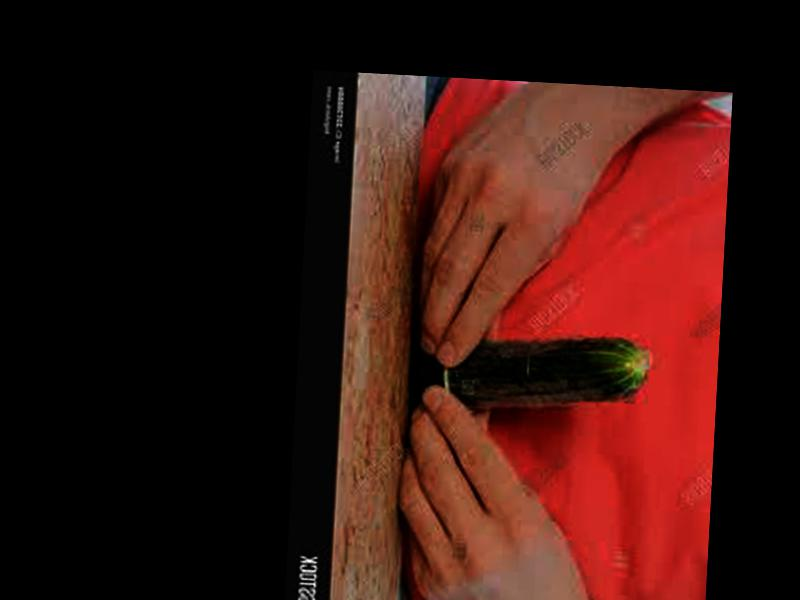Cucumber: (410, 326, 650, 417)
